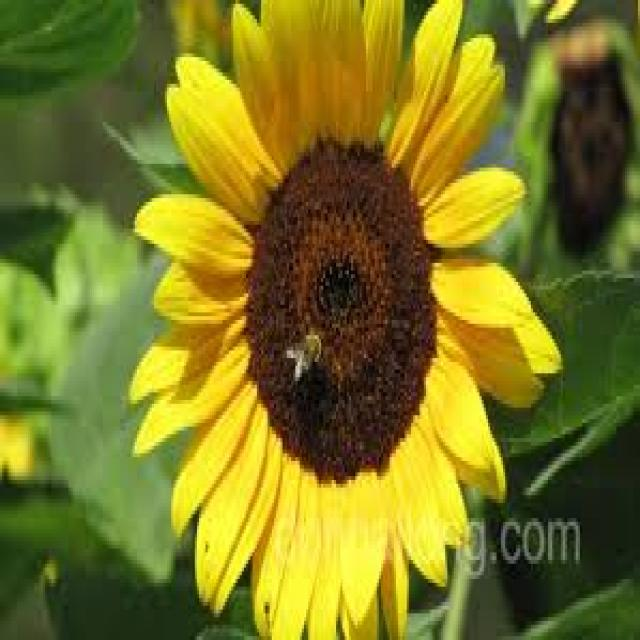sunflower: (122, 0, 566, 640), (525, 18, 640, 279)
